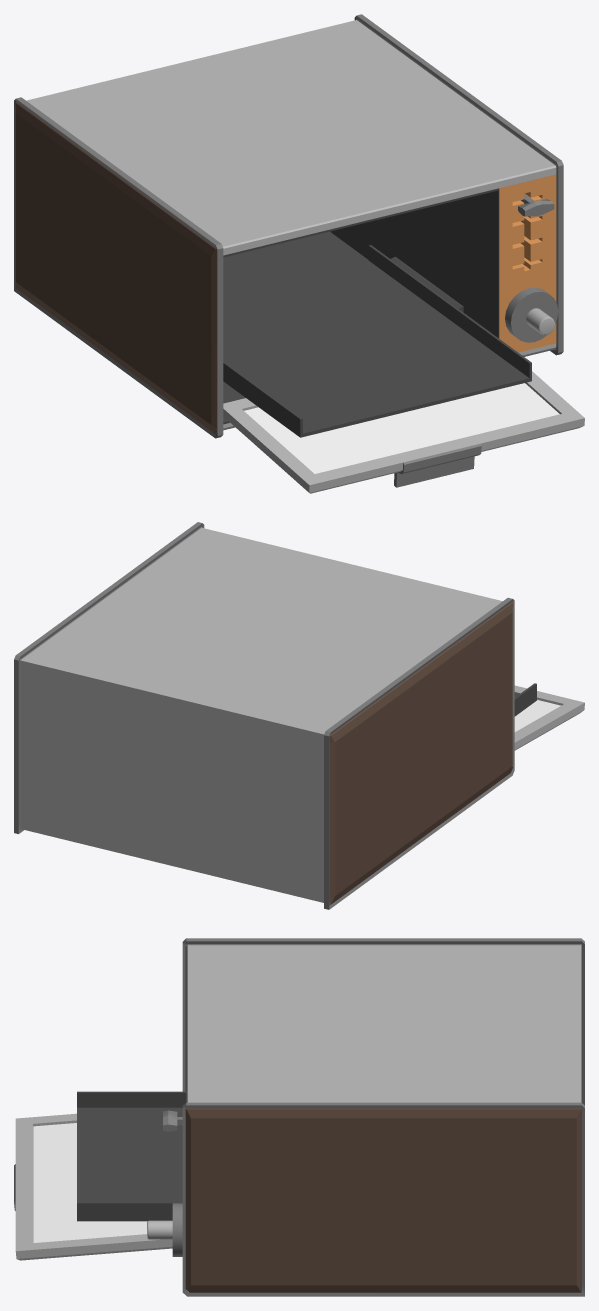
Rendered from toaster.fbx.
3 renders of one model, top to bottom at view 1: azimuth 30°, elevation 25°; view 2: azimuth 150°, elevation 25°; view 3: azimuth 270°, elevation 25°, orthographic. The views are drawn at different scales.
Parts seen in each view (by area): view 1: polySurface9; view 2: polySurface9; view 3: polySurface9.
Boxes of the visible parts, x1=… form: polySurface9: x1=14, y1=14, x2=584, y2=493; polySurface9: x1=14, y1=522, x2=584, y2=909; polySurface9: x1=14, y1=938, x2=584, y2=1296.
Bounding box in the file's own units: 2.03 × 1.16 × 2.9.
